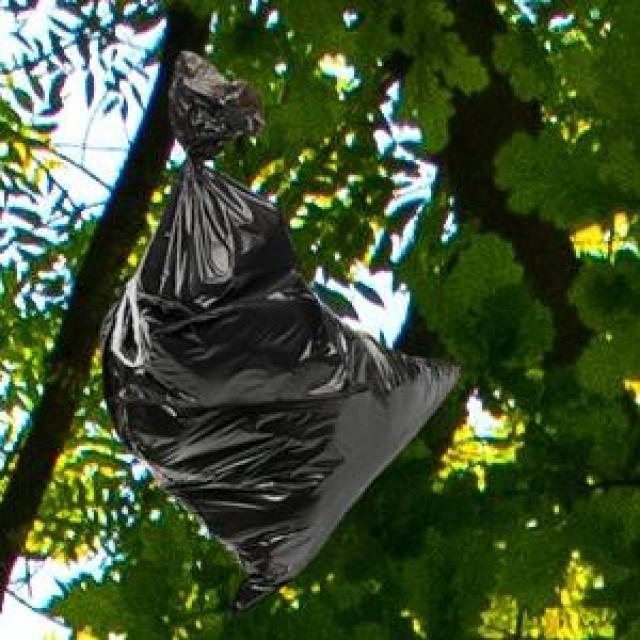miscellaneous trash: (98, 271, 457, 612), (107, 47, 367, 403)
